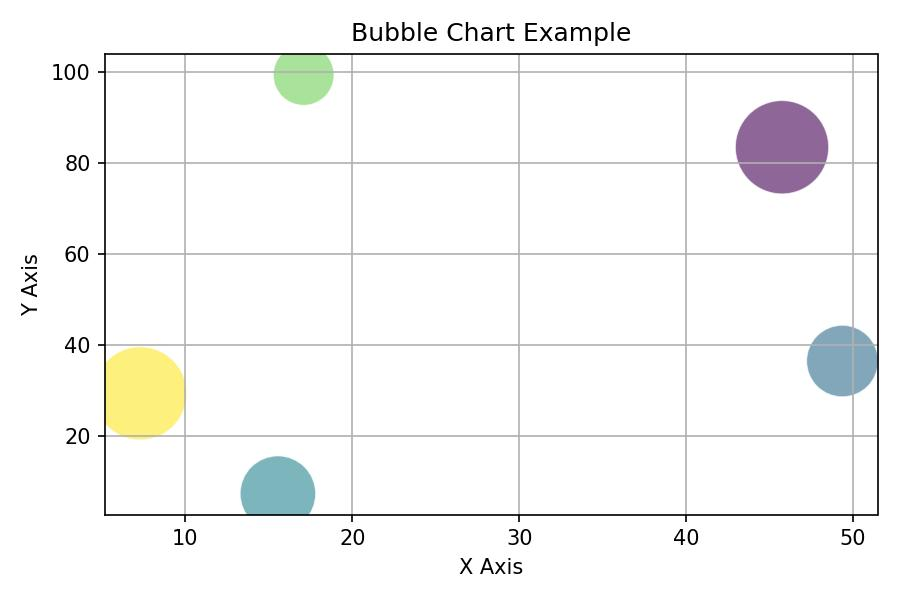axis: (93, 503, 887, 548), (82, 38, 115, 529)
circle: (103, 345, 189, 440), (738, 101, 829, 190), (808, 324, 878, 397), (240, 454, 319, 517), (271, 54, 334, 103)
